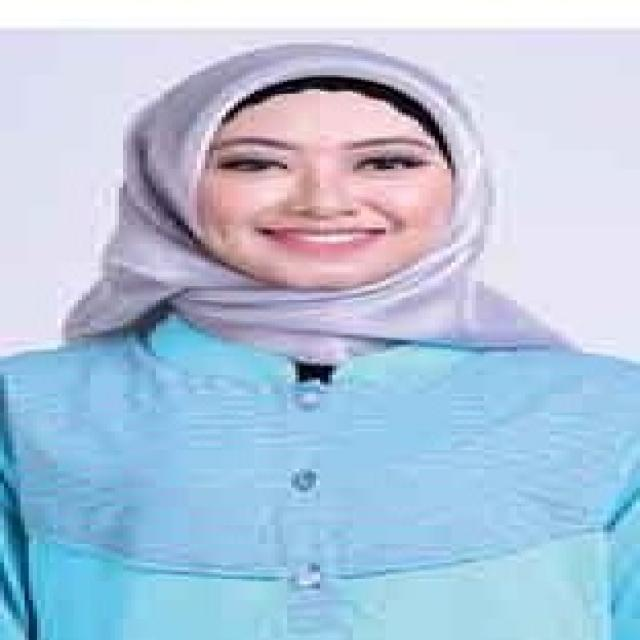head: (117, 41, 491, 306)
